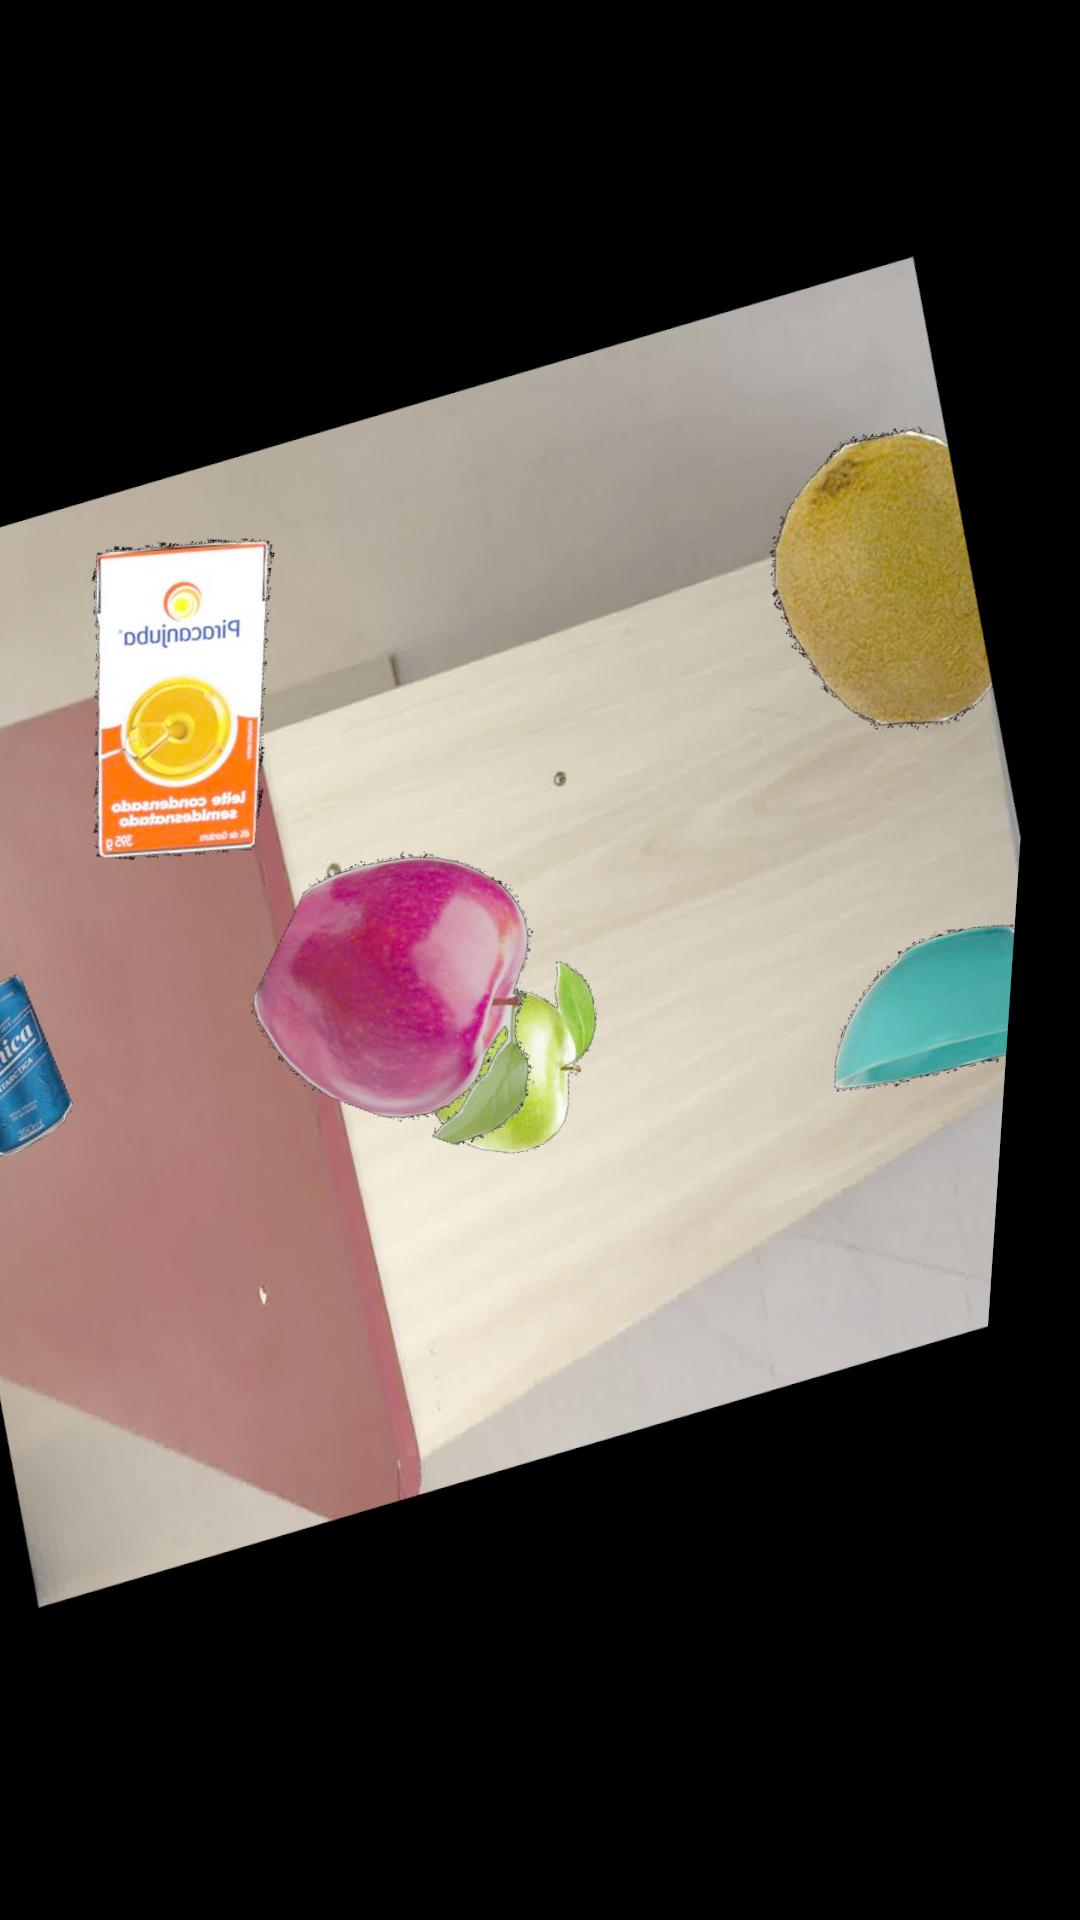apple: (265, 860, 545, 1154)
bowl: (848, 938, 1029, 1102)
green apple: (448, 971, 609, 1162)
kiwi: (777, 439, 1002, 741)
tonic: (0, 977, 86, 1159)
